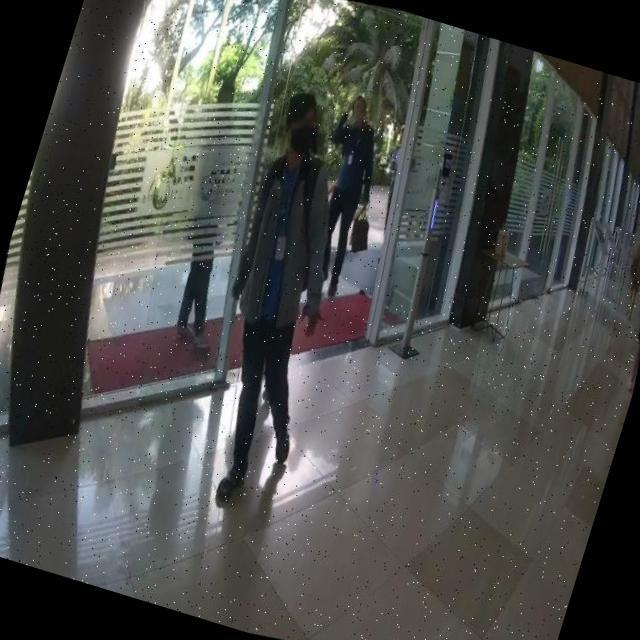person: (160, 79, 402, 522), (288, 87, 403, 302)
